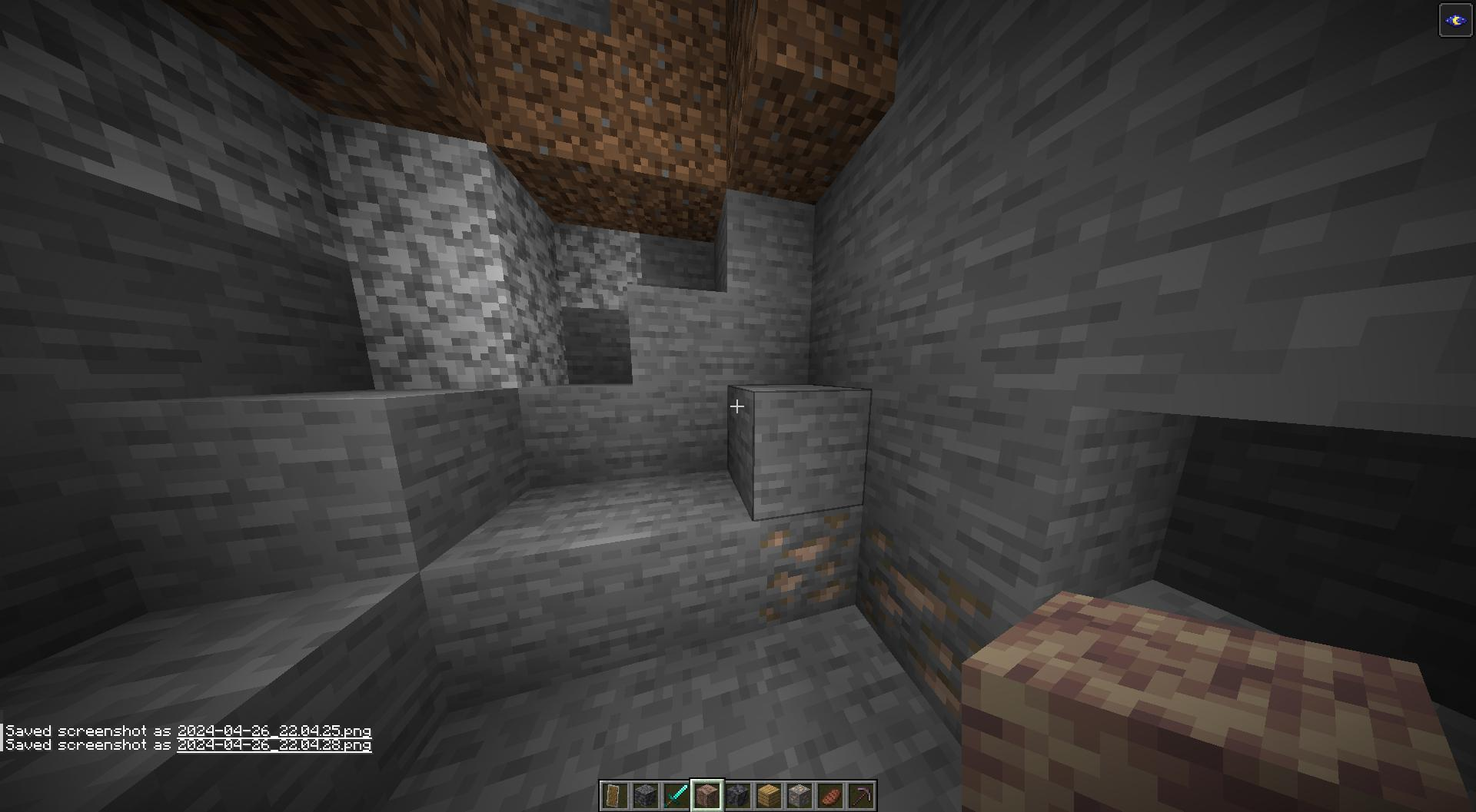iron ore: (862, 528, 993, 730), (758, 504, 861, 617)
